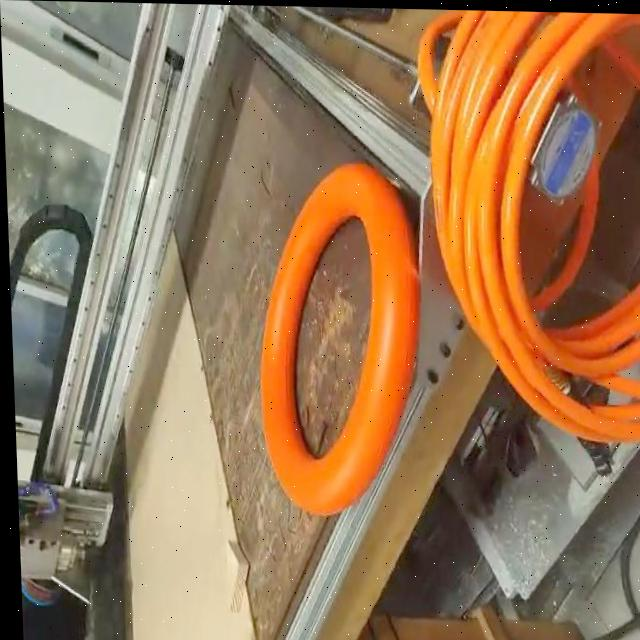note: (246, 159, 431, 524)
